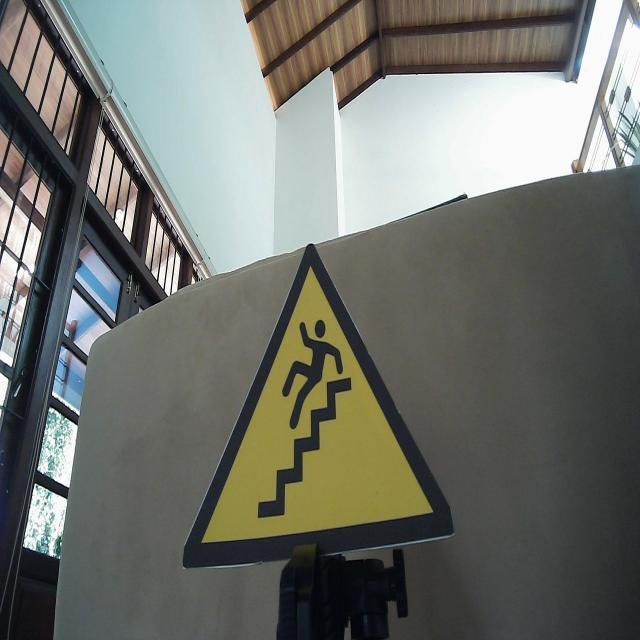stairs: (182, 241, 457, 573)
